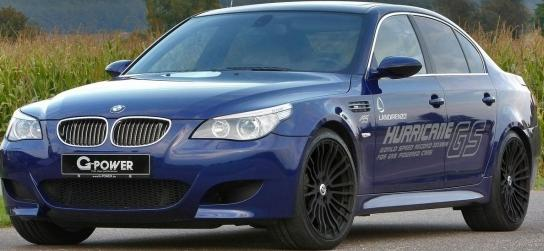front_view: (2, 98, 303, 224)
headlight: (185, 101, 297, 145)
side_glass: (364, 9, 491, 78)
